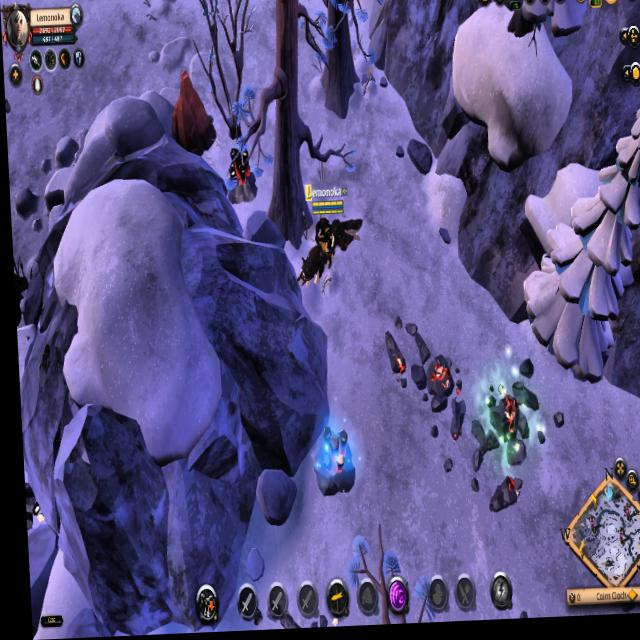ore tier 5: (305, 425, 352, 500)
rock tier 5: (165, 71, 216, 167)
